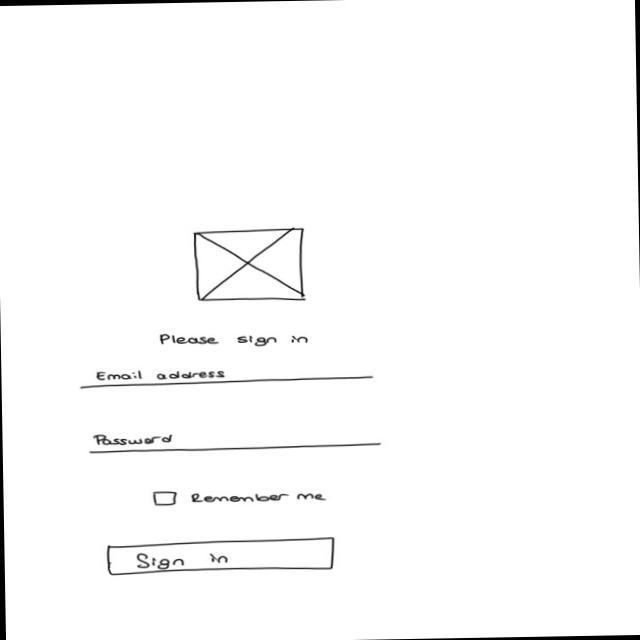button: (106, 537, 337, 577)
checkbox: (152, 488, 329, 509)
image: (194, 227, 308, 303)
input: (90, 428, 383, 455), (80, 366, 375, 391)
label: (159, 331, 311, 350)
